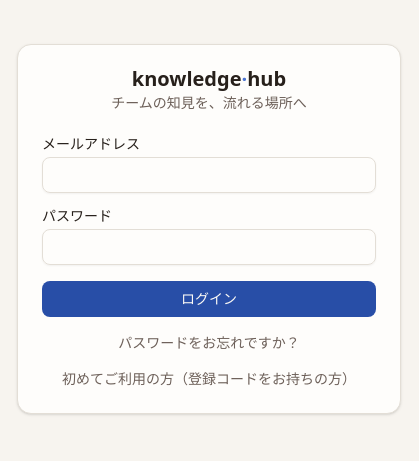
Test: LoginPage › ネットワーク例外でもエラーメッセージを表示する（M-5）
Type "a@example.com" into the field labelled "メールアドレス" at coordinates (209, 175), box x1=42 y1=157 x2=376 y2=193
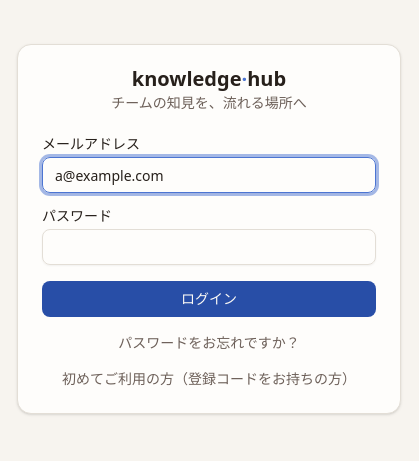
Type "my-password-123" into the password field labelled "パスワード" at coordinates (209, 247), box x1=42 y1=229 x2=376 y2=265
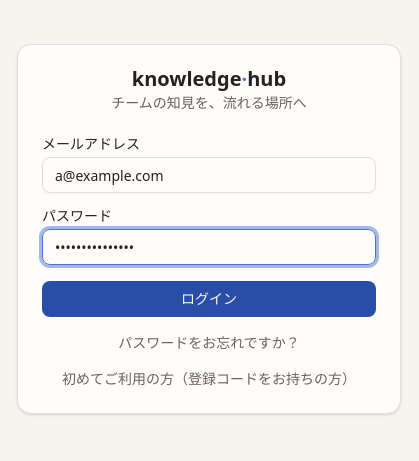
Click the button "ログイン" at coordinates (209, 299), box x1=42 y1=281 x2=376 y2=317
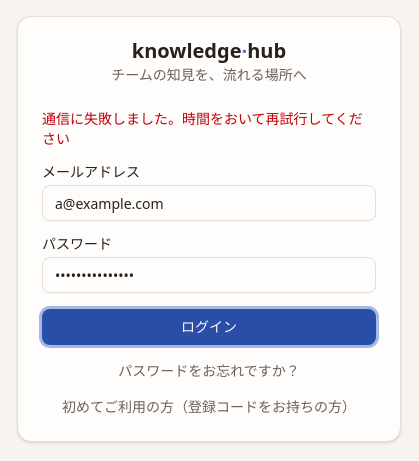
Expected: the message shows "通信に失敗", x1=42 y1=109 x2=363 y2=148
